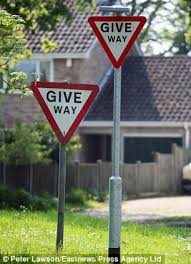giveway: (29, 81, 101, 149), (83, 13, 147, 68), (32, 79, 96, 120), (67, 81, 97, 145), (31, 76, 64, 134), (87, 9, 117, 72), (119, 9, 148, 71)
